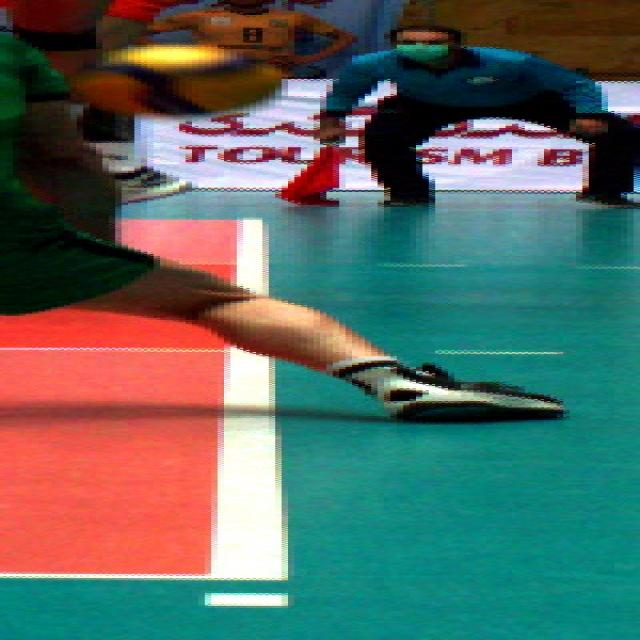Volleyball: (70, 43, 285, 114)
